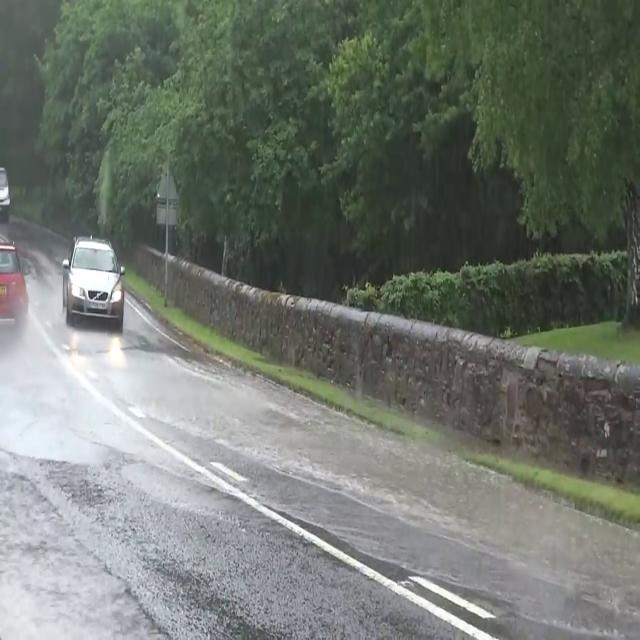license-plate-annotation: (88, 297, 109, 313)
